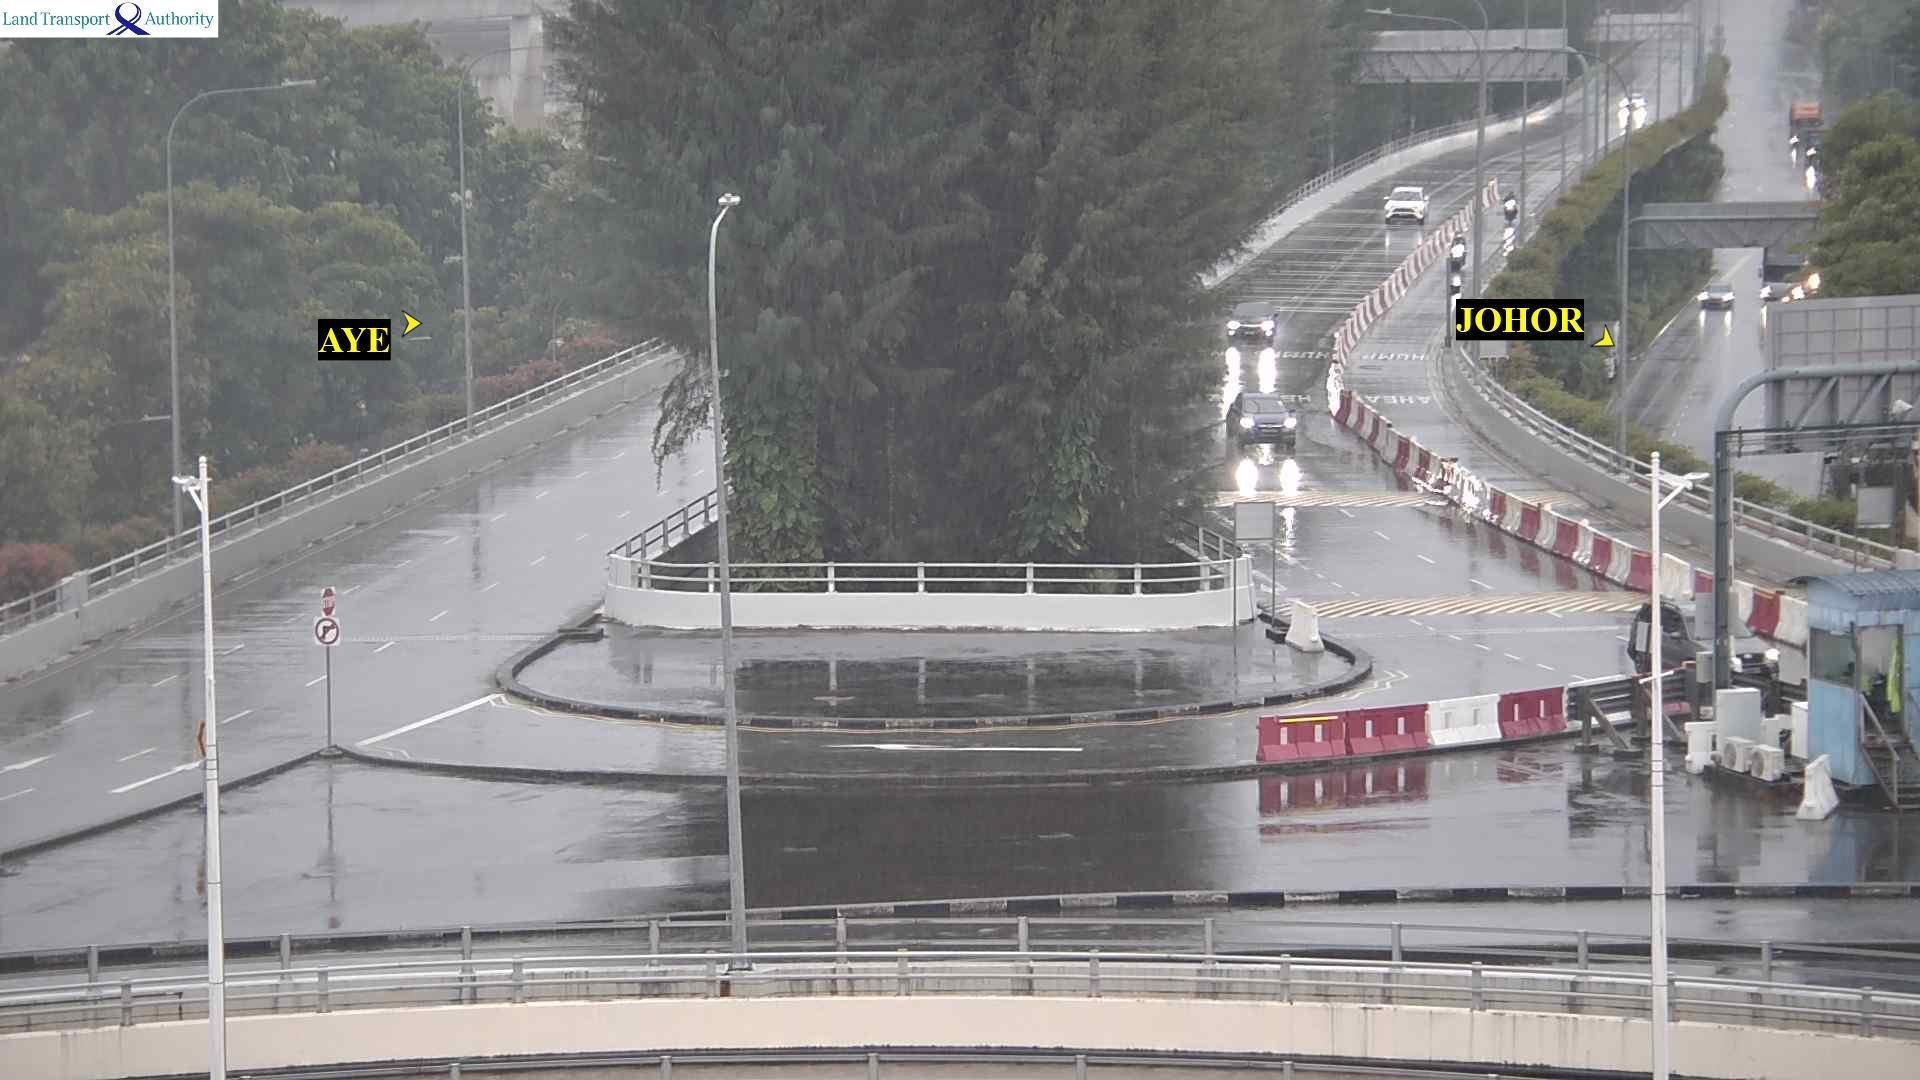vehicle-secondlink-johor: (1228, 393, 1296, 448), (1228, 299, 1278, 340), (1386, 186, 1429, 225), (1449, 229, 1466, 265), (1503, 190, 1518, 224)
